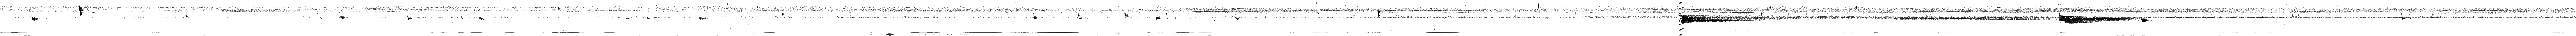meteor: (2058, 13, 2132, 25), (1679, 15, 1748, 23), (2139, 16, 2152, 23), (698, 15, 708, 20), (1033, 13, 1040, 20), (31, 16, 38, 21), (1157, 15, 1163, 20), (407, 15, 412, 20), (2402, 15, 2407, 20), (340, 16, 347, 20)
